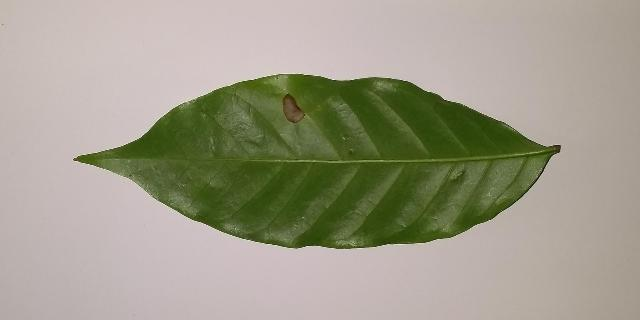cercospora: (282, 95, 304, 123)
